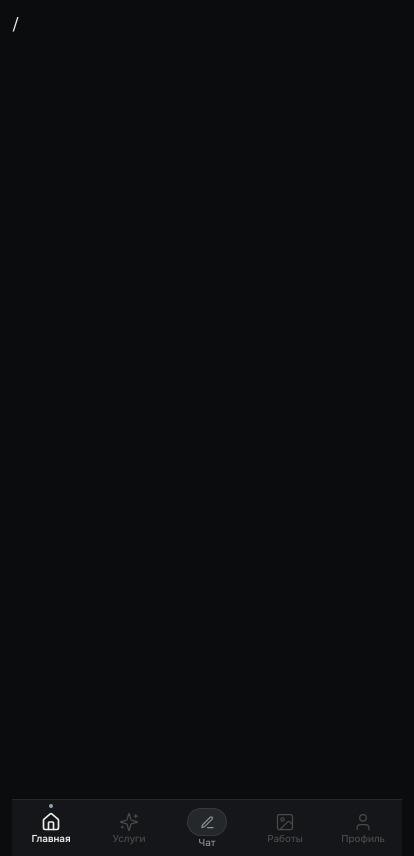
Scenario: BottomNav (мобильное меню) › переходит на /cases по пункту «Работы»
Step 1. Click the button "Работы" → (285,828), box [246,800,324,855]
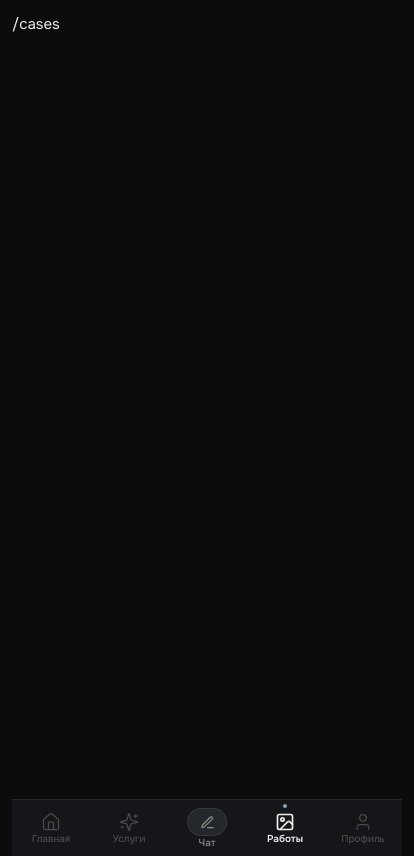
Expected: the text with test id "loc" reads "/cases", [12,14,60,34]
